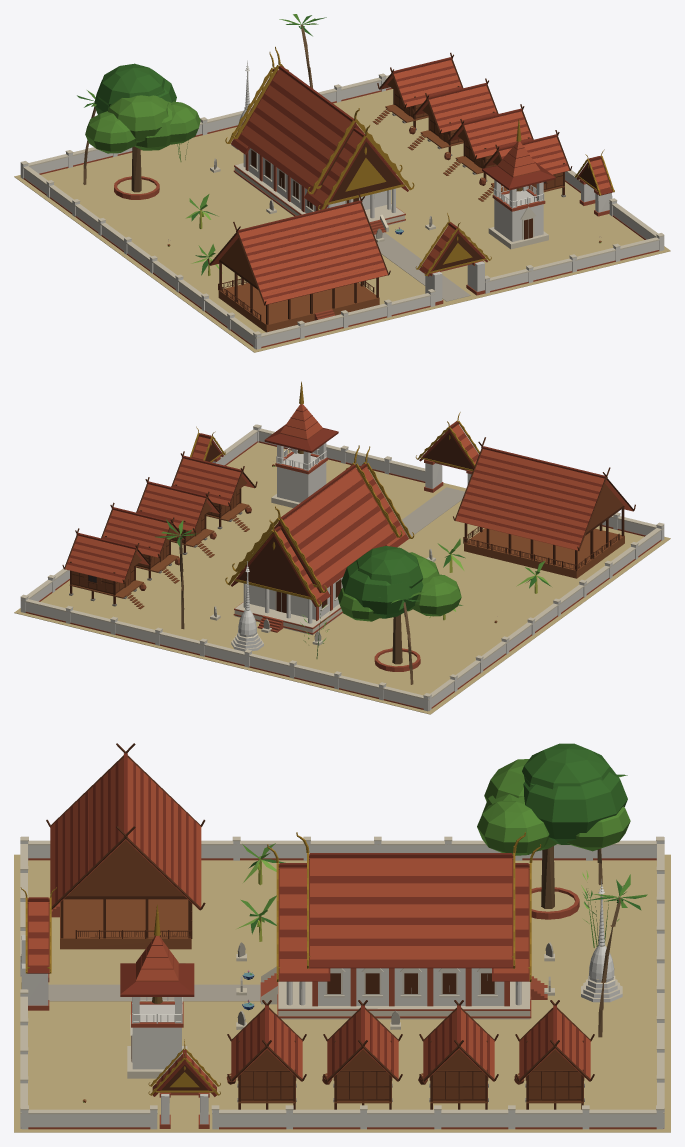
Rendered from temple_2.glb.
3 views of the same model, one above another, from view 1: azimuth 30°, elevation 25°; view 2: azimuth 150°, elevation 25°; view 3: azimuth 270°, elevation 25° (orthographic). The views are drawn at different scales.
Visible parts, largest first — view 1: body; view 2: body; view 3: body.
Part boxes in pixels (x1,y1,x2,y2): body: [14, 14, 670, 352]; body: [14, 381, 670, 714]; body: [14, 743, 670, 1132].
Size of the model in its own units: 47.9 by 13.21 by 47.9.
